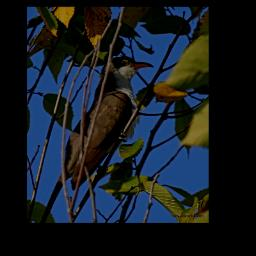Cuckoo: (63, 56, 176, 191)
